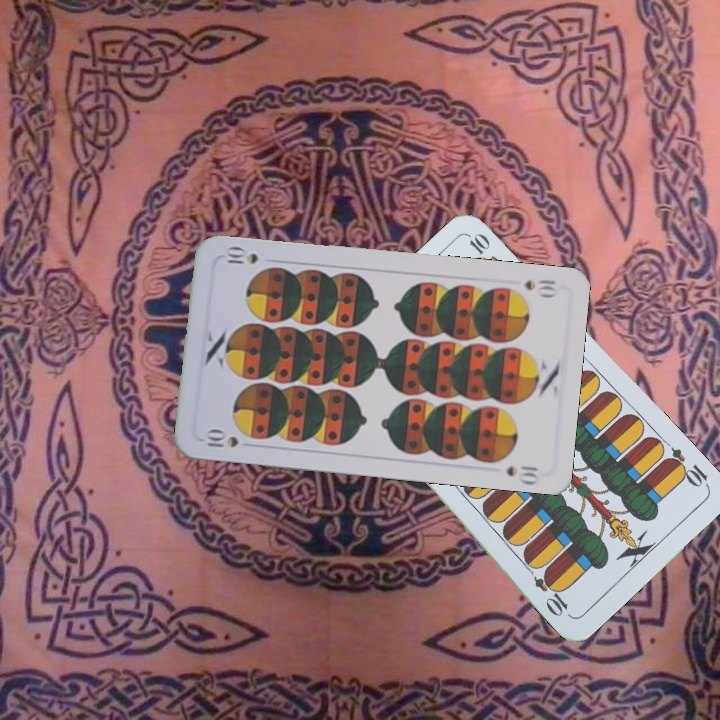E10: (660, 443, 712, 491)
S10: (520, 275, 559, 300), (201, 426, 241, 450)
